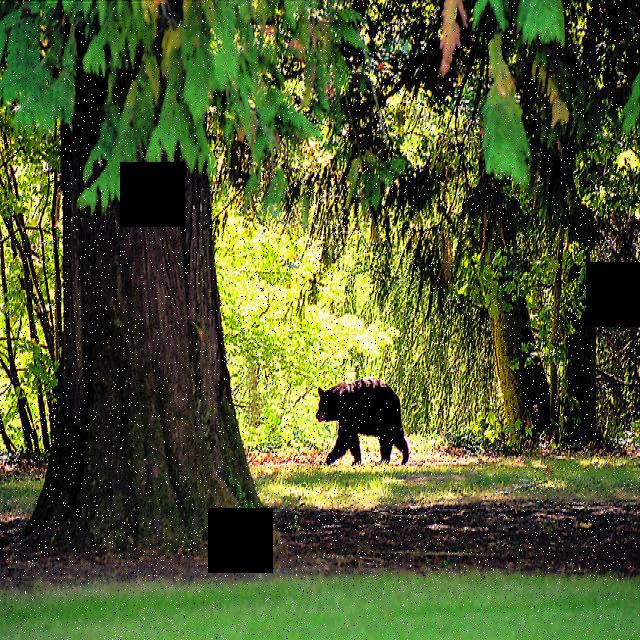Bear: (313, 374, 412, 466)
